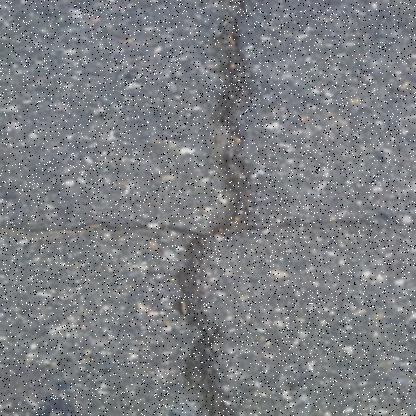Cracks: (164, 0, 285, 415), (0, 213, 416, 240)
